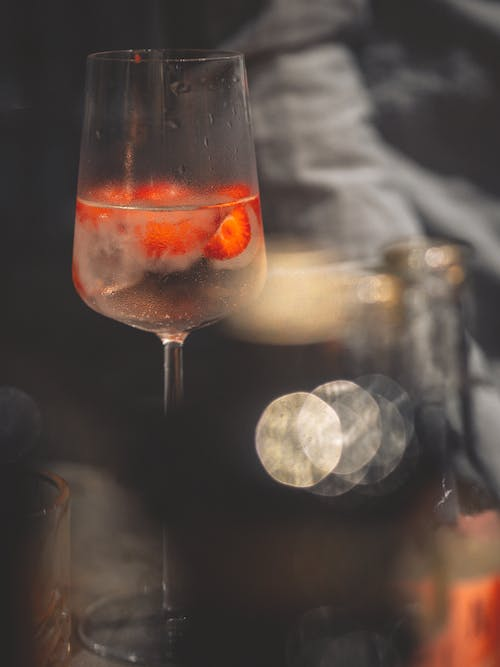alcohol: (68, 46, 268, 667)
